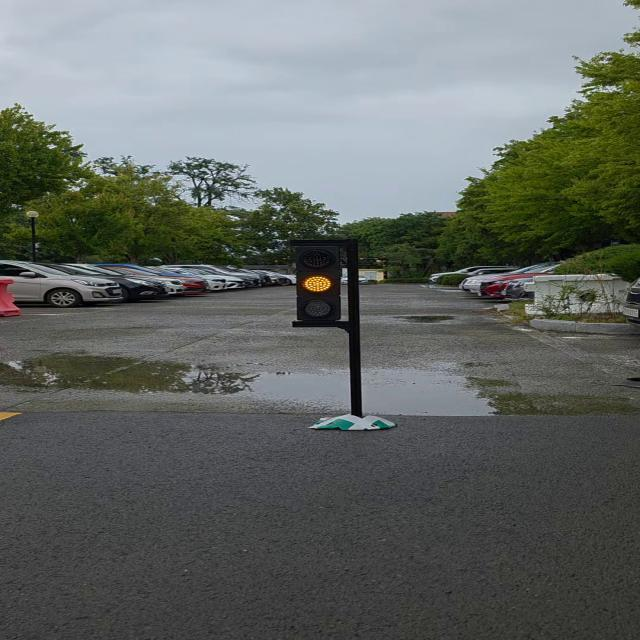yellow: (292, 236, 357, 330)
